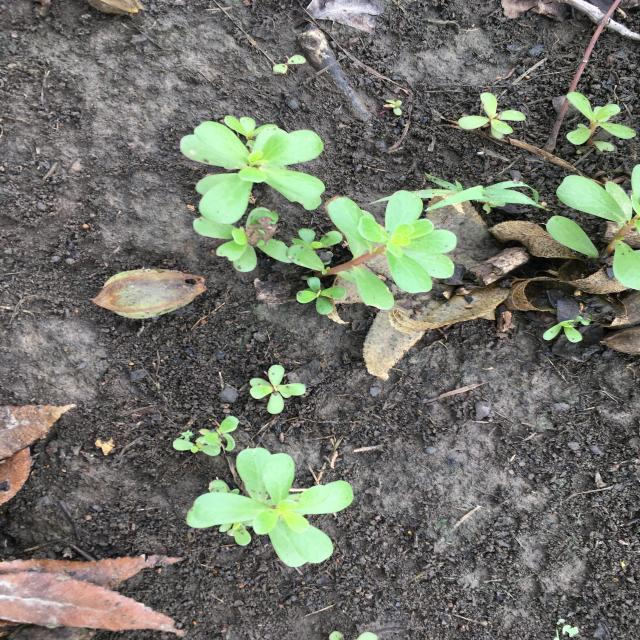Purslane: (286, 190, 457, 315), (186, 448, 354, 568), (181, 116, 326, 224), (546, 164, 640, 290), (193, 207, 292, 272), (566, 92, 637, 154), (458, 92, 526, 139), (250, 365, 306, 414), (173, 416, 239, 456), (543, 309, 594, 343), (273, 55, 306, 74), (379, 100, 402, 115)
